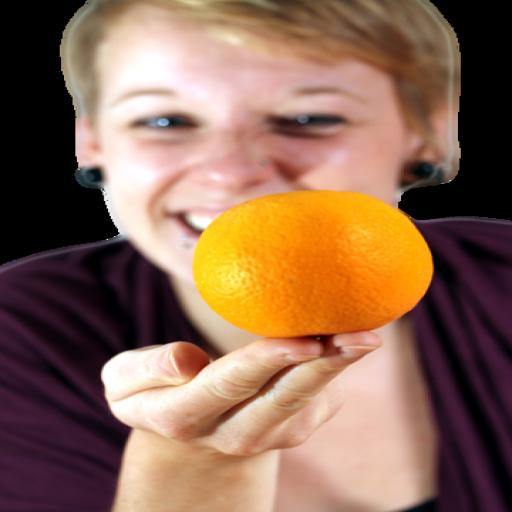orange: (192, 190, 433, 337)
